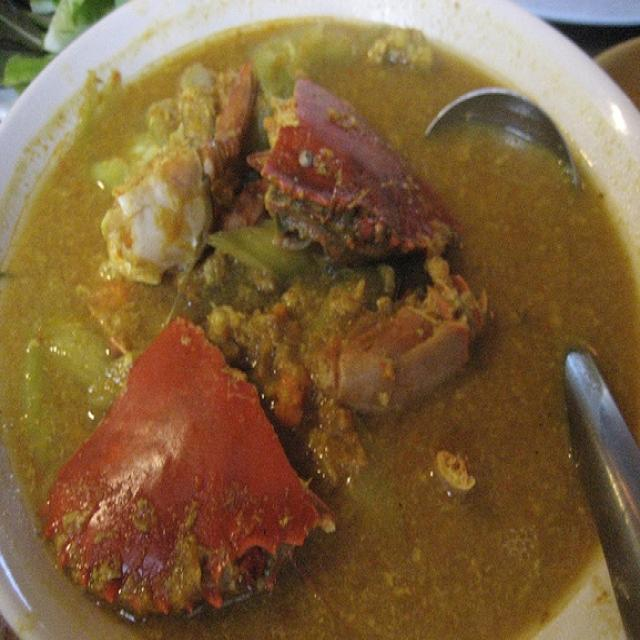汤锅炖物: (14, 21, 592, 634)
